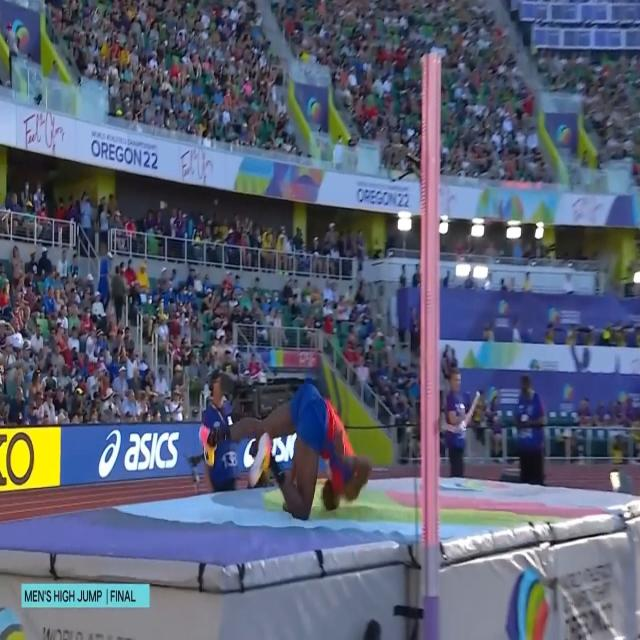land: (191, 375, 368, 520)
